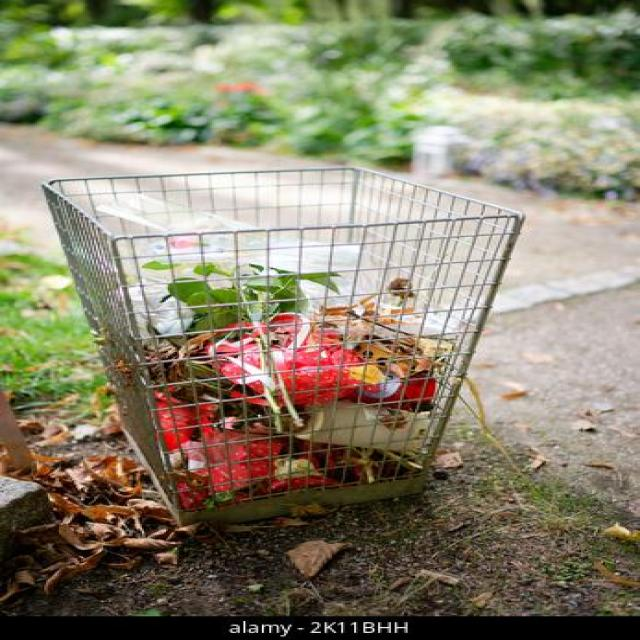trash: (85, 270, 468, 493)
